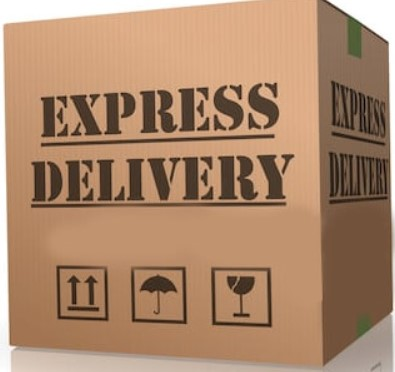stock: (4, 2, 393, 365)
